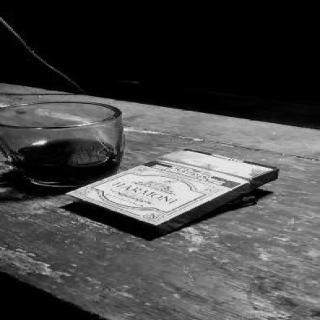objects: (66, 149, 279, 235)
